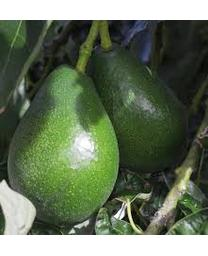avocado: (6, 64, 120, 227), (87, 45, 193, 174)
